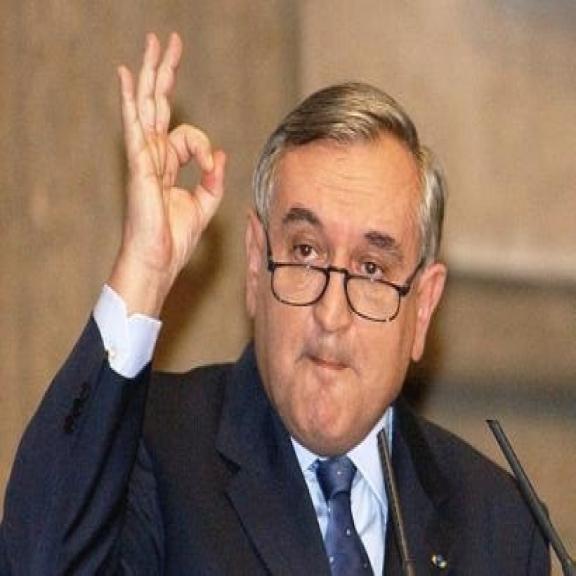face: (244, 124, 450, 450)
